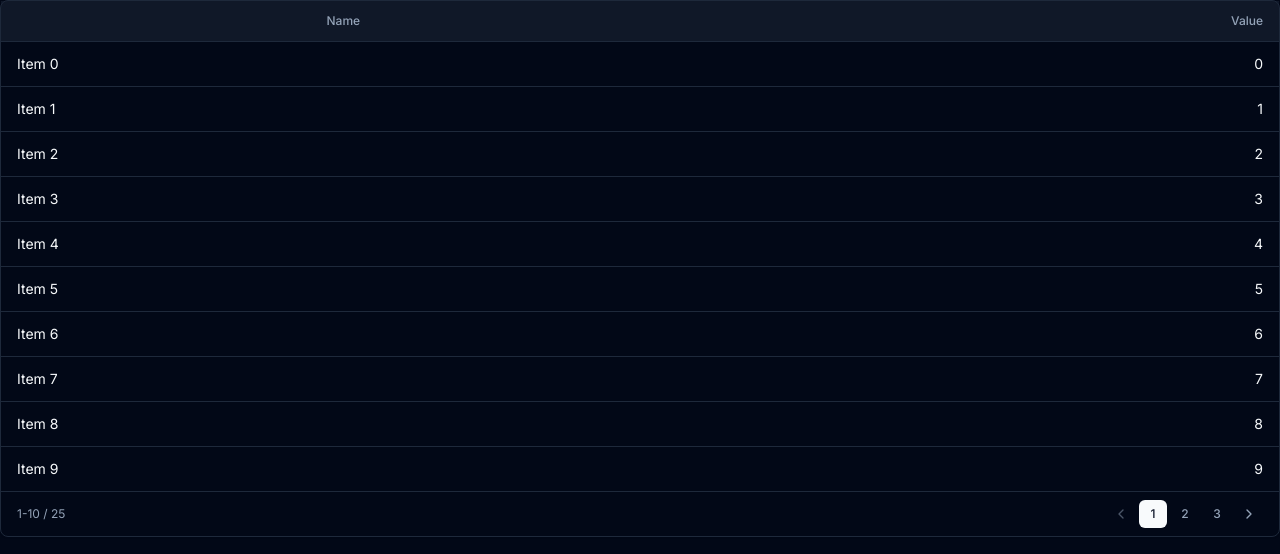
it: DataTable › navigates pages
Click the button named "Sonraki sayfa" at (1249, 514), box [1235, 500, 1263, 528]
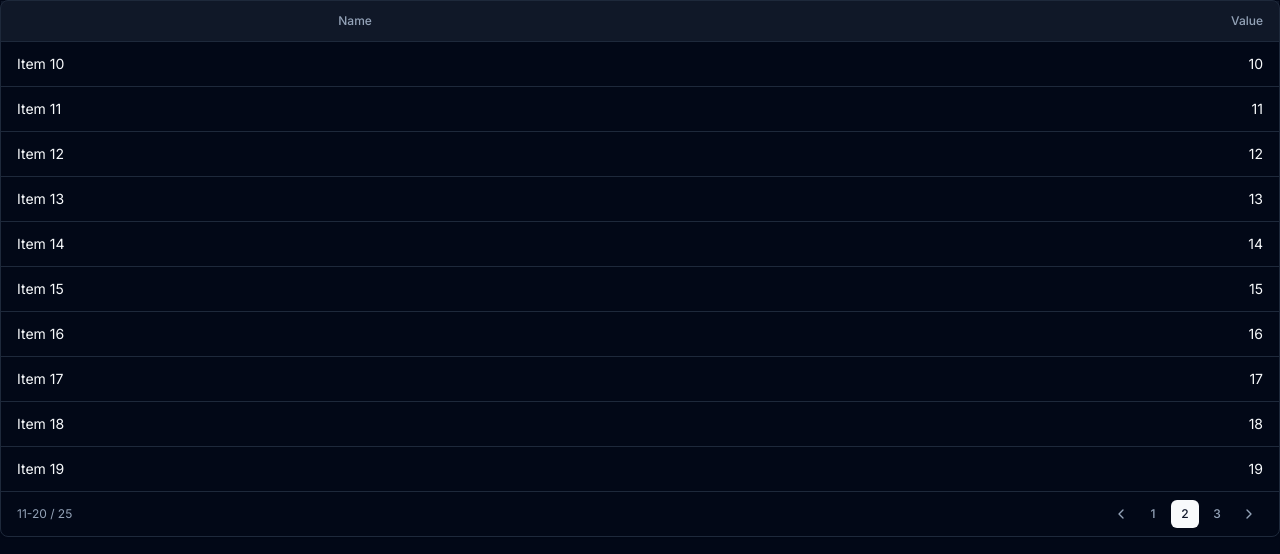
Result: the text "Item 10" is shown at [1, 42, 709, 86]
Result: the text "Item 0" is gone
